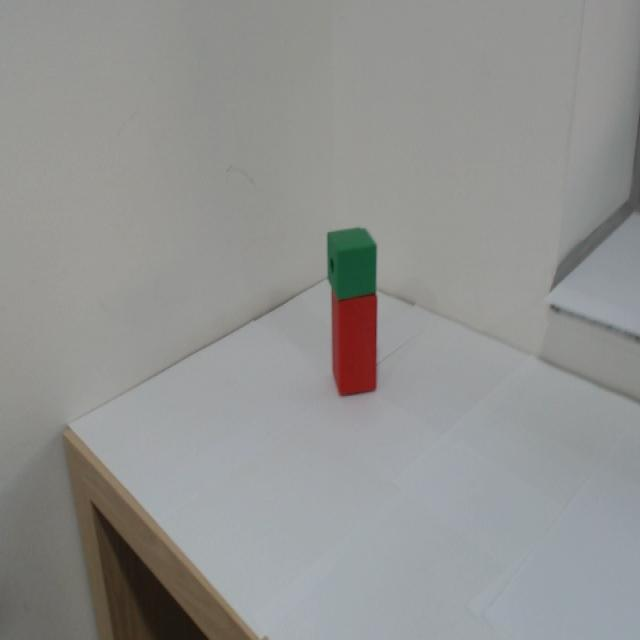cube: (320, 219, 383, 296)
